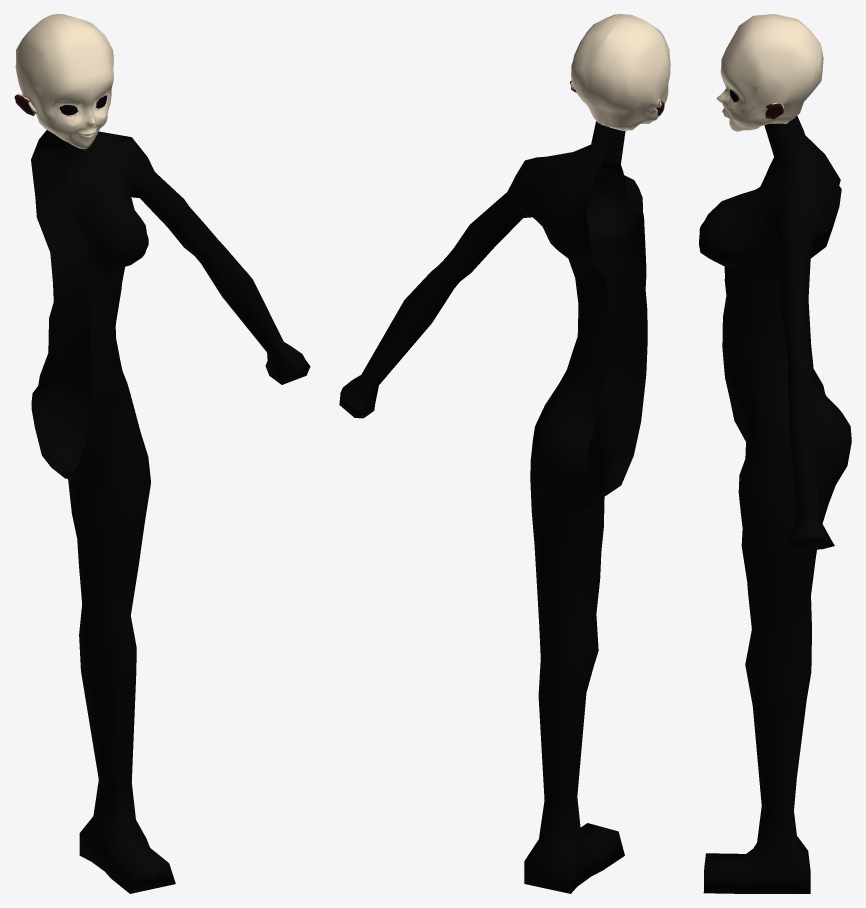
The model's file is chrmb_cs17_kusaka_benoa.fbx.
The picture shows the model from 3 angles, left to right: view 1: azimuth 30°, elevation 25°; view 2: azimuth 150°, elevation 25°; view 3: azimuth 270°, elevation 25°; orthographic projection. The views are drawn at different scales.
Parts seen in each view (by area): view 1: pCube1, polySurface17; view 2: pCube1, polySurface17; view 3: pCube1, polySurface17.
Part boxes in pixels (left/top/right/bottom): pCube1: left=31, top=130, right=310, bottom=893; polySurface17: left=14, top=14, right=113, bottom=149; pCube1: left=339, top=121, right=647, bottom=893; polySurface17: left=570, top=14, right=670, bottom=130; pCube1: left=699, top=116, right=851, bottom=893; polySurface17: left=716, top=14, right=823, bottom=131.
Size of the model in its own units: 57.5 by 157 by 25.84.
